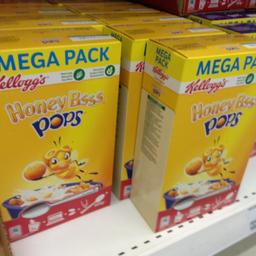cereal: (129, 32, 255, 233), (0, 25, 121, 225)
